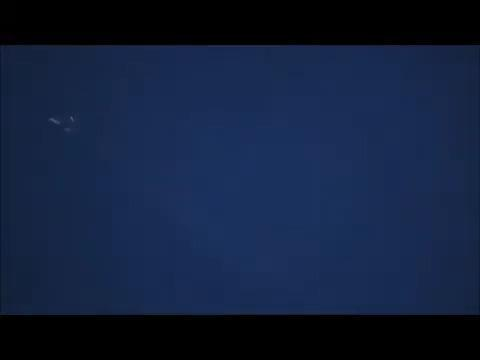Plane: (30, 108, 96, 140)
